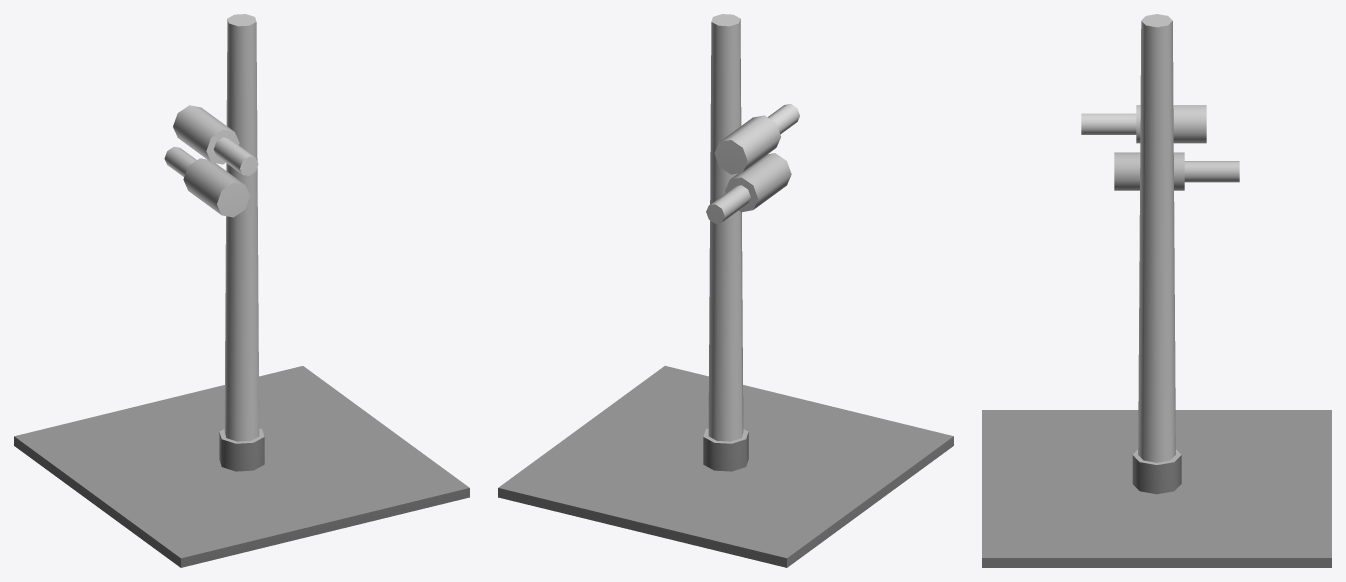
File: panel_ayak.glb
3 renders of one model, left to right at view 1: azimuth 30°, elevation 25°; view 2: azimuth 150°, elevation 25°; view 3: azimuth 270°, elevation 25°, orthographic. The views are drawn at different scales.
Visible parts, largest first — view 1: Cylinder; view 2: Cylinder; view 3: Cylinder.
Boxes of the visible parts, bbox=[...] form: Cylinder: bbox=[14, 14, 469, 567]; Cylinder: bbox=[498, 14, 953, 567]; Cylinder: bbox=[982, 14, 1331, 567].
Bounding box in the file's own units: 1.23 × 1.84 × 1.23.
Materials: 1 (1 with a texture image).
